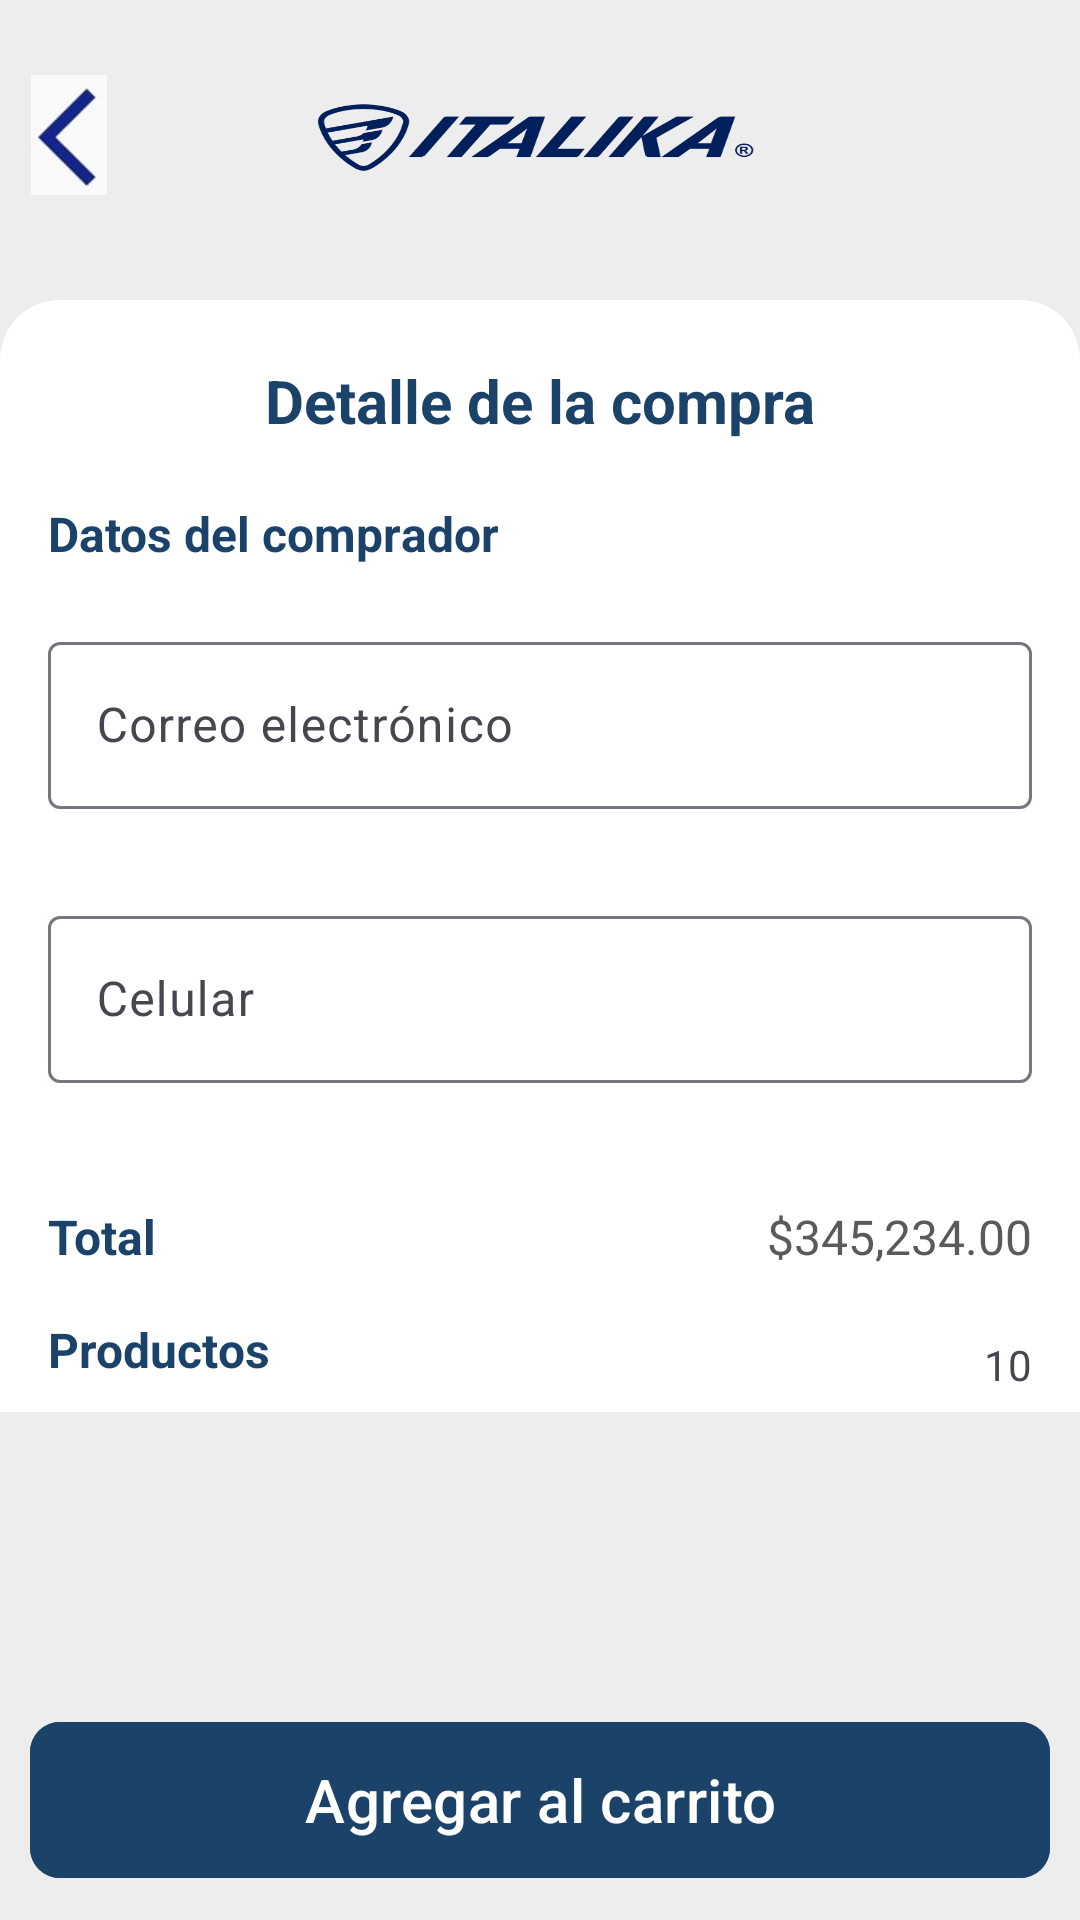

Named icons in this screenshot (1080 x 1920) and their bounding boxes, (x1, y1, x2, y2):
back: (31, 75, 107, 195)
